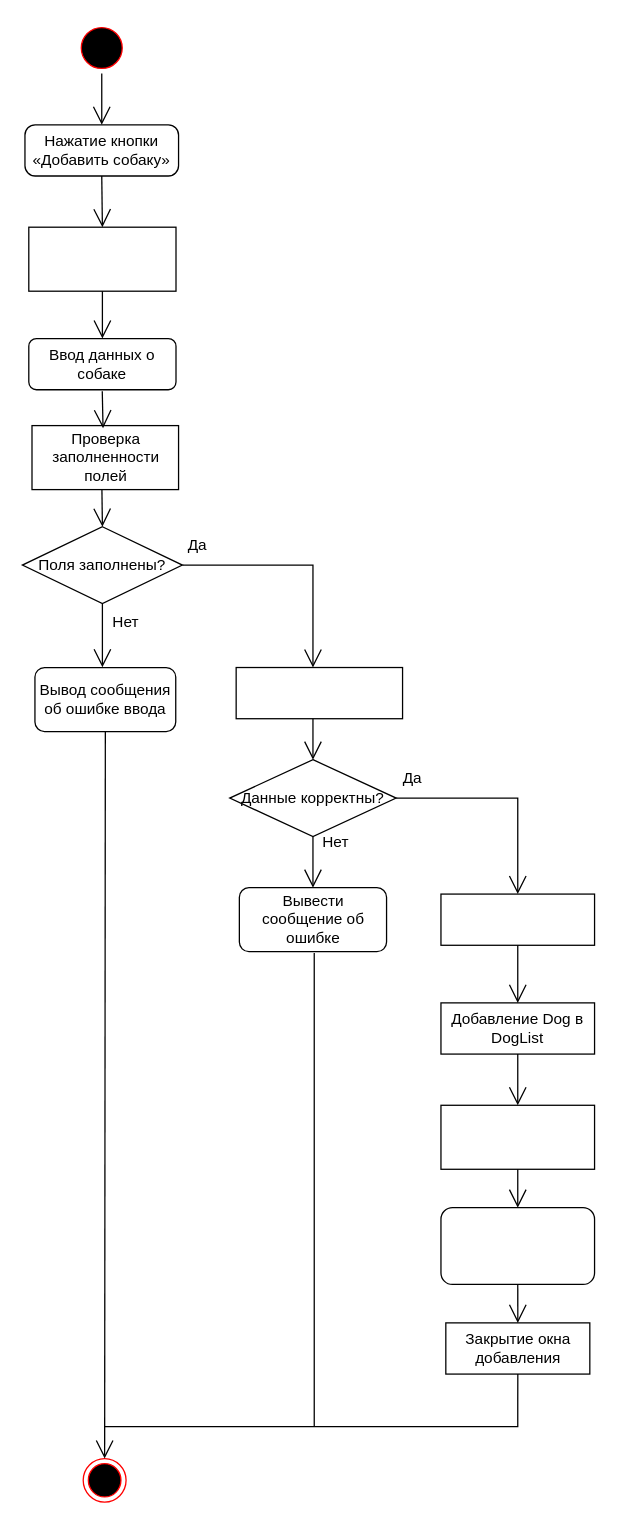
The diagram is 617 pixels wide and 1524 high, and some of its shapes have lost their labels. Here are the shapes that lost their labels. From the top down, the centre of each, then its label:
At pixel 102 258: "Открыть окно AddElementWindow".
At pixel 319 692: "Проверка корректности данных".
At pixel 517 919: "Создание объекта Dog".
At pixel 517 1136: "Обновление таблицы в MainWindow".
At pixel 517 1245: "Вывести сообщение об успешном добавлении".
